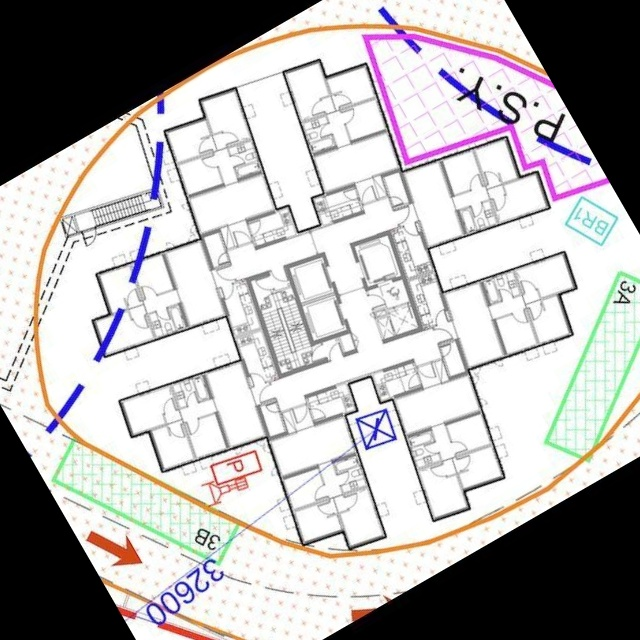tower_crane: (355, 409, 399, 454)
